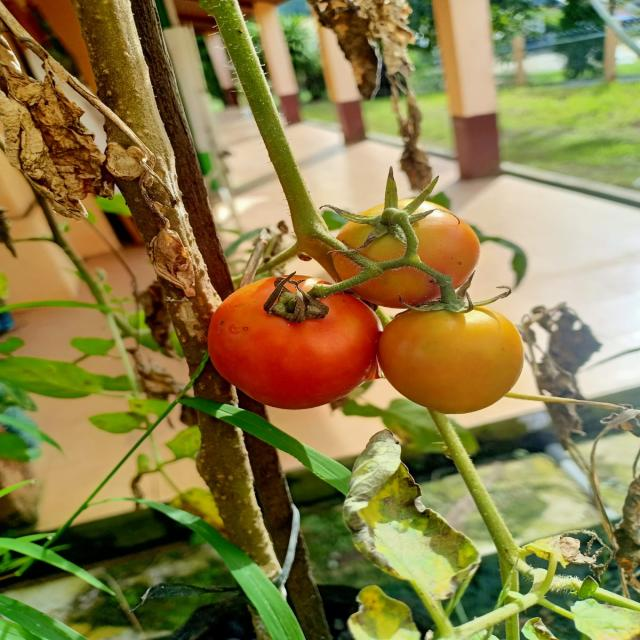ripe tomato: (205, 272, 381, 410), (376, 298, 524, 414), (329, 197, 481, 309)
